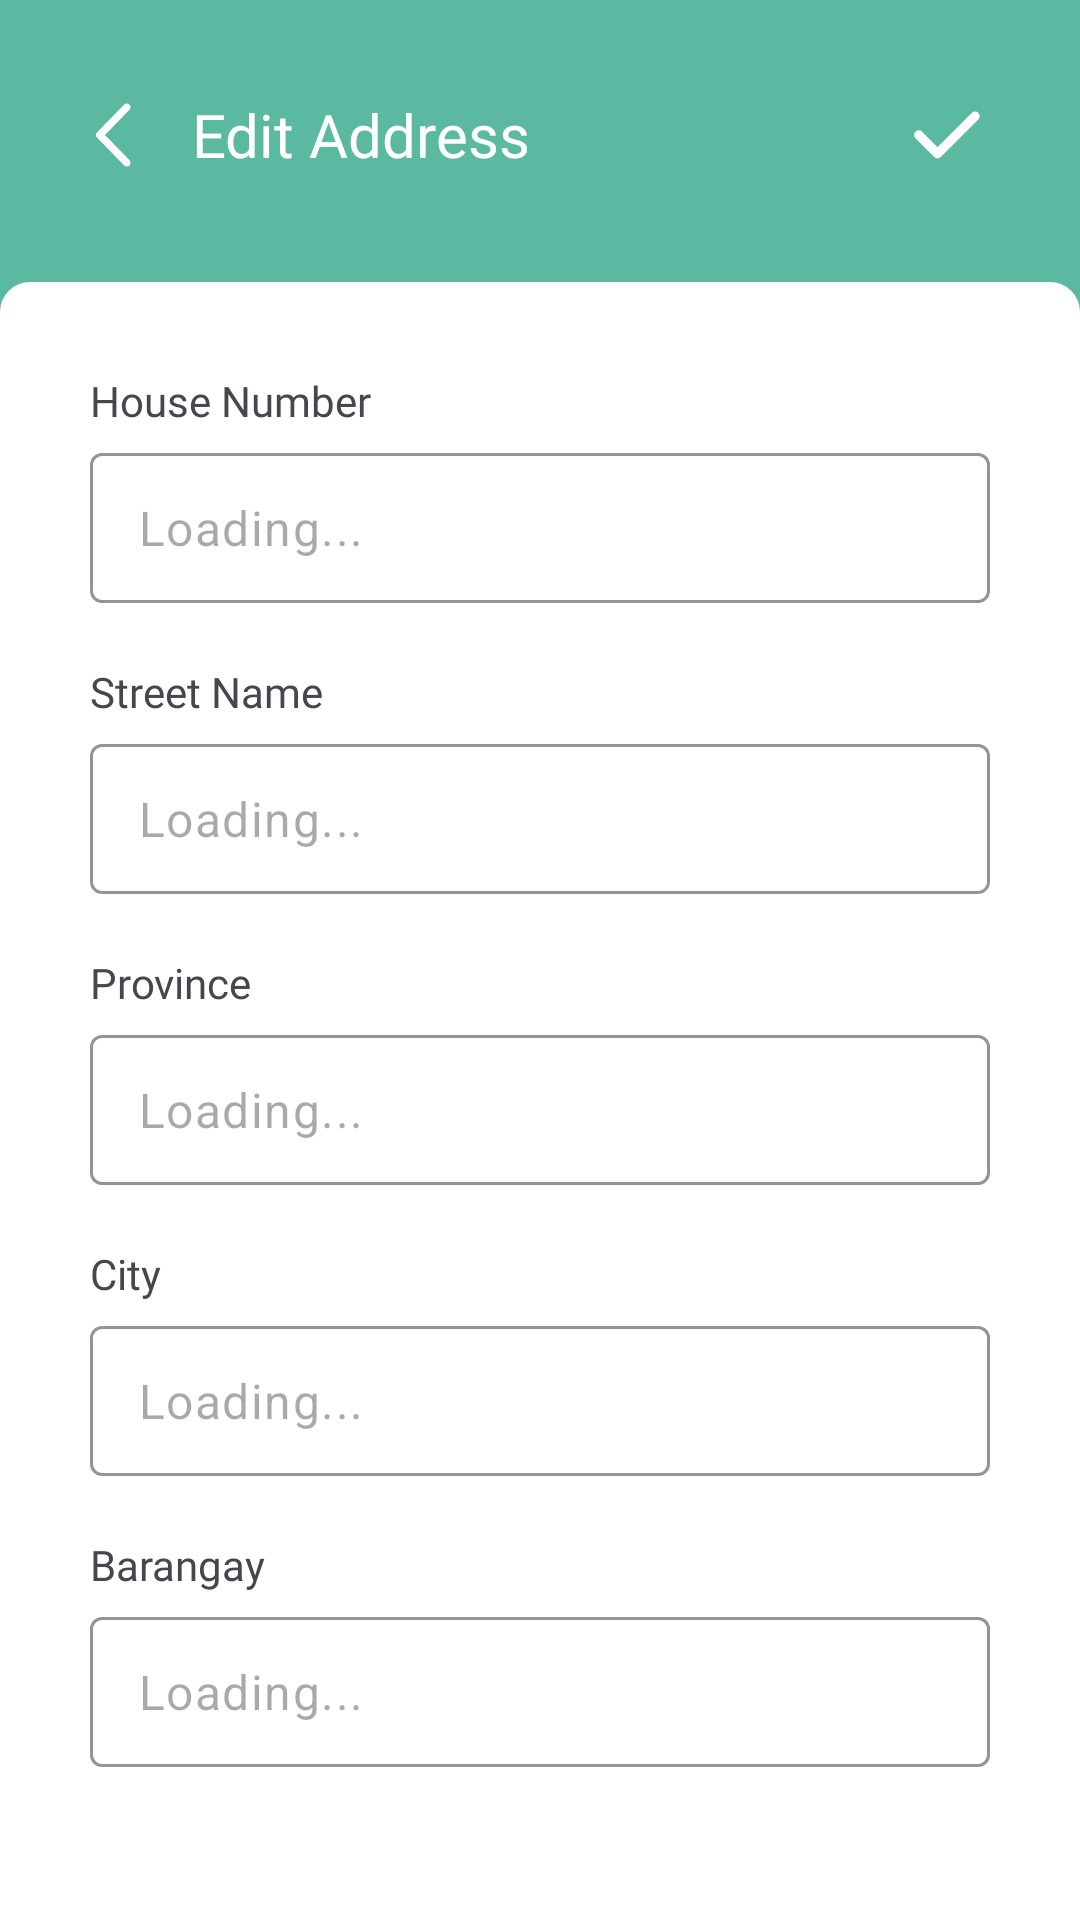

Icon click points for this 1080 x 1920 phone screenshot, format (x,y):
check: (947,135)
